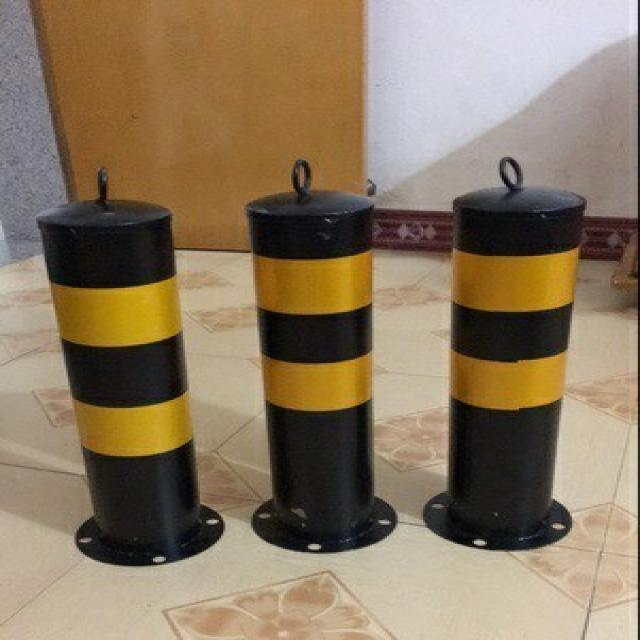warning_column: (36, 164, 225, 562), (246, 154, 399, 544), (440, 155, 591, 549)
